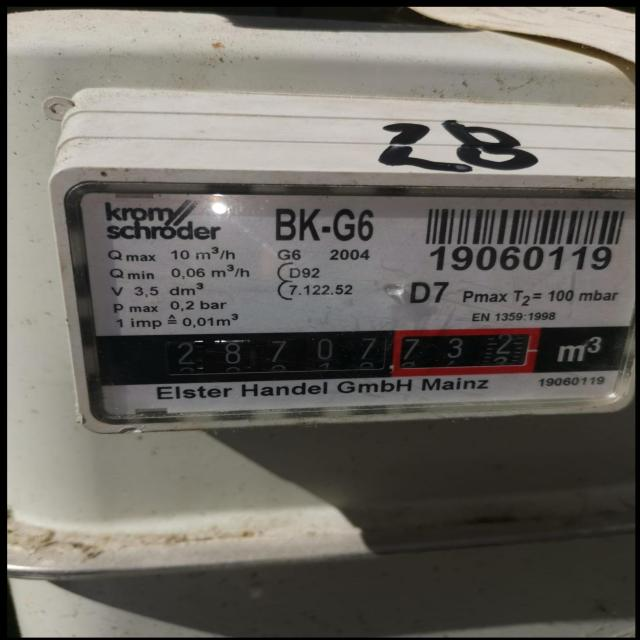gaz_meter: (74, 181, 629, 415)
indication: (93, 329, 534, 384)
